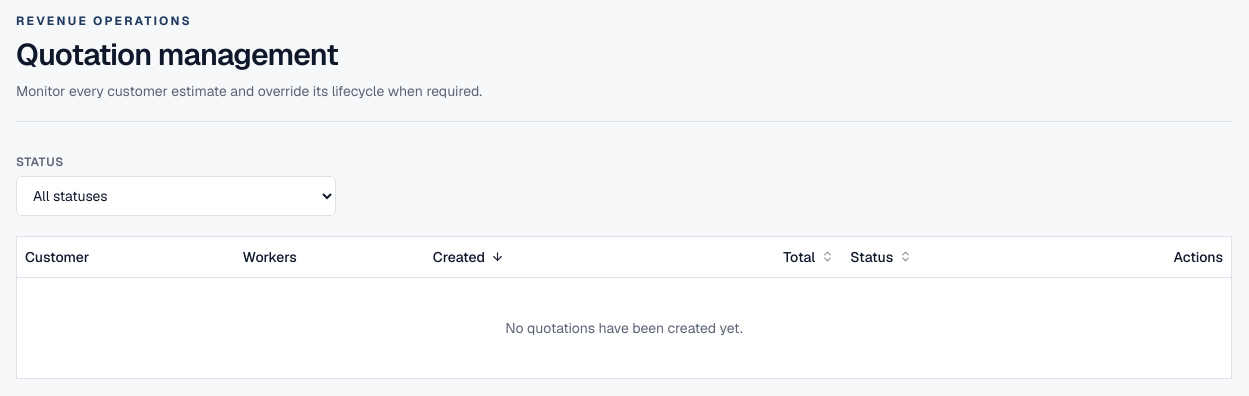
Scenario: admin quotations, on the shared components › shows the empty state naming the filter in force
This screenshot has width=1249, height=396.
Expected: the text "No quotations have been created yet." is shown, [505,318,743,336]
Select "Expired" in the dropdown named "Filter by status" at (176,196), box [16,176,336,216]
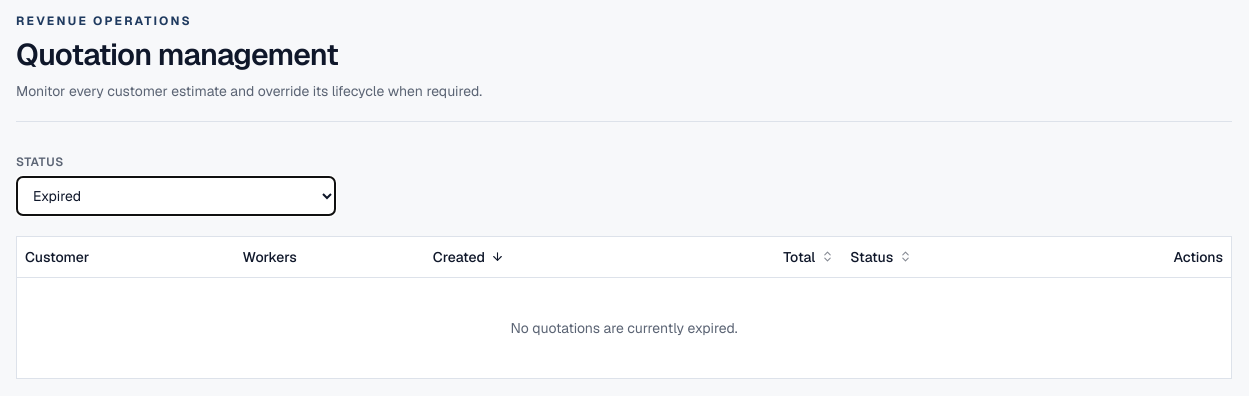
Expected: the text "No quotations are currently expired." is shown, [510,318,738,336]
